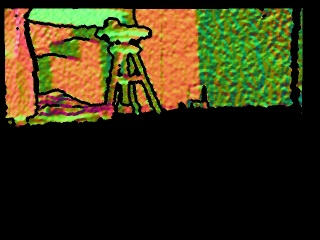station: (186, 82, 209, 110)
